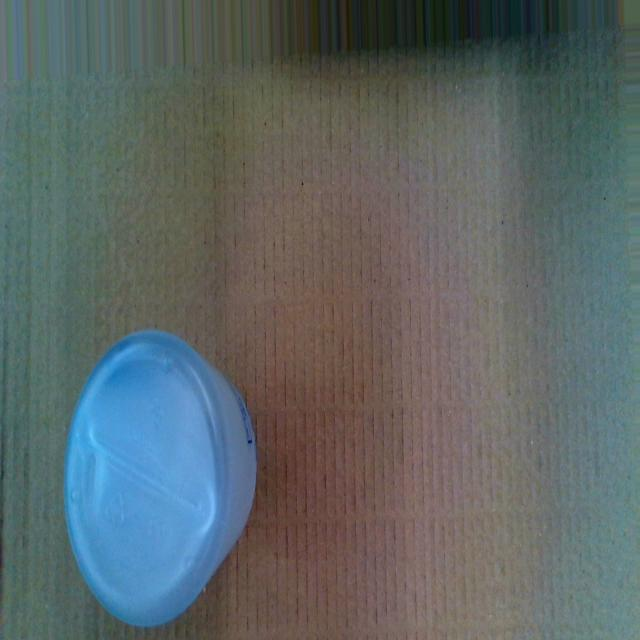bottle: (61, 326, 262, 632)
